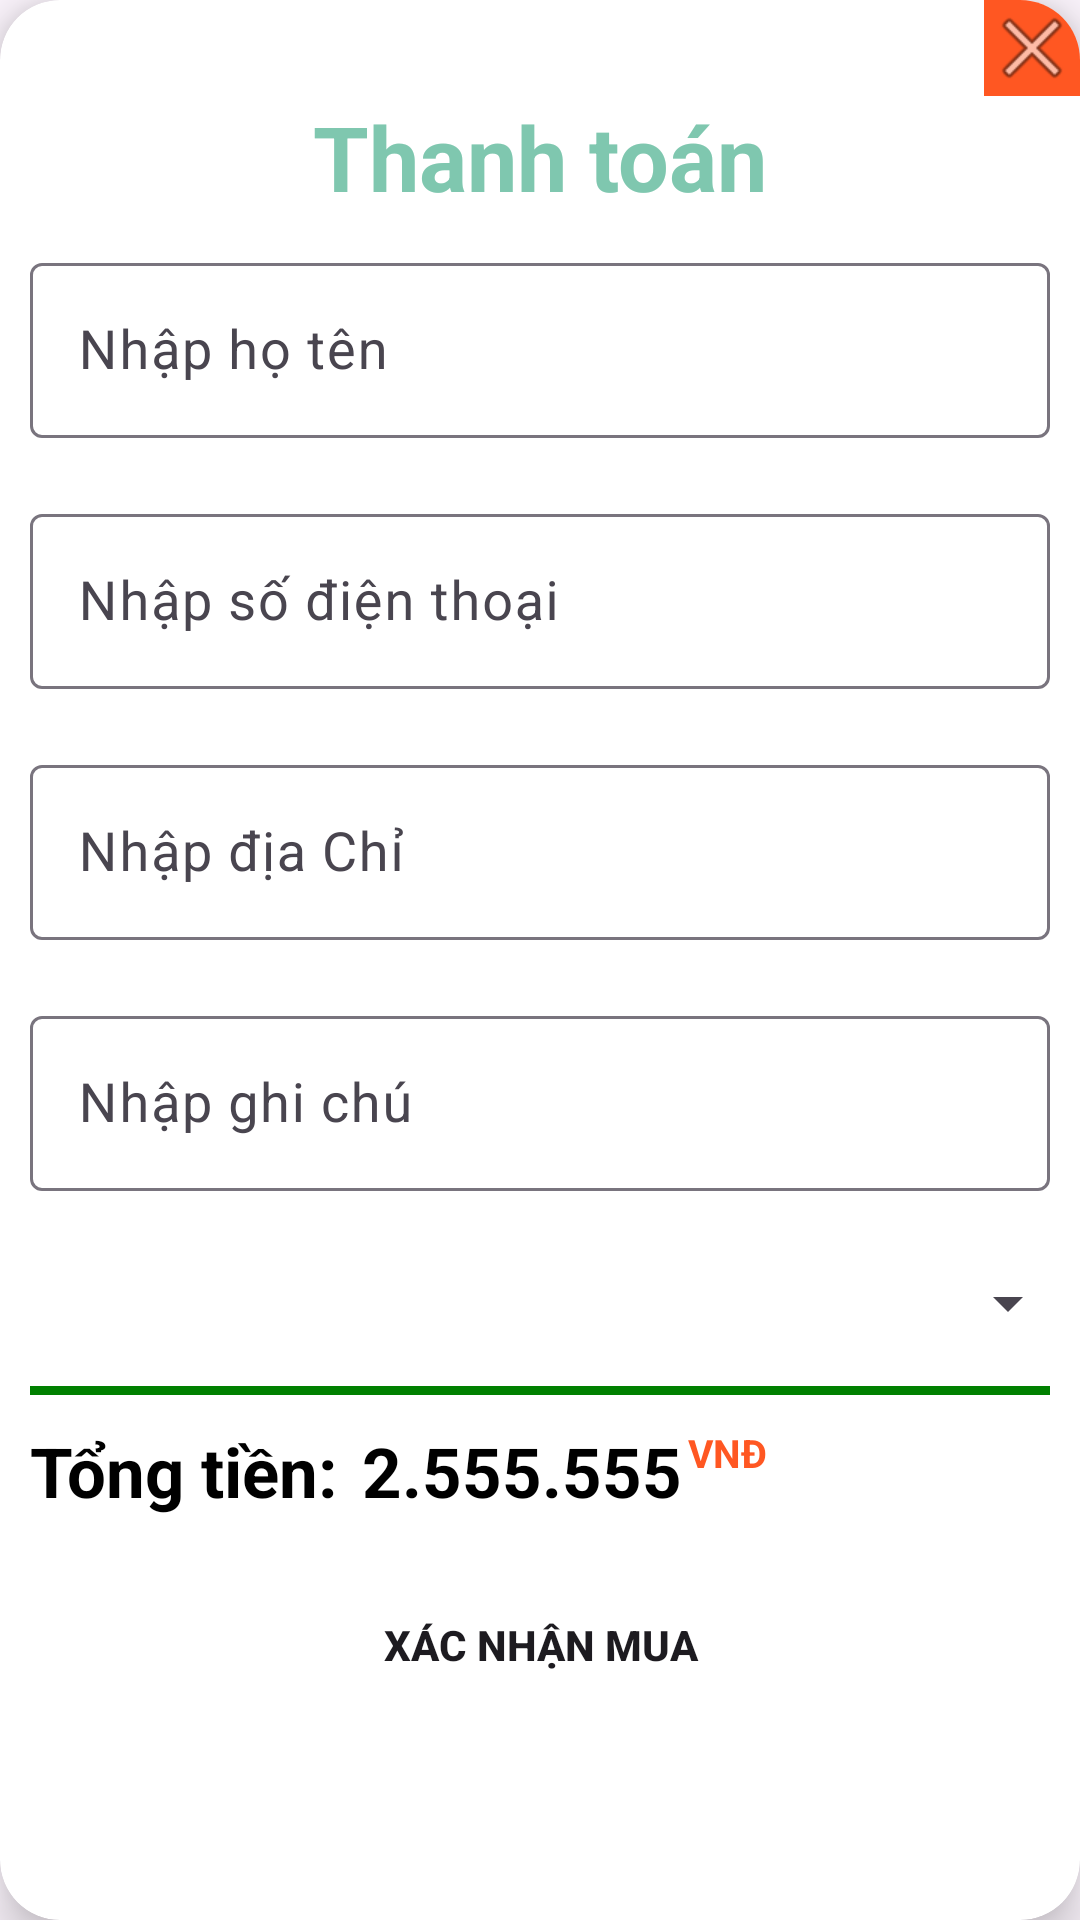

Icon click points for this 1080*1920 phone screenshot, format point (x, y):
close clear cancel: point (1032, 48)
